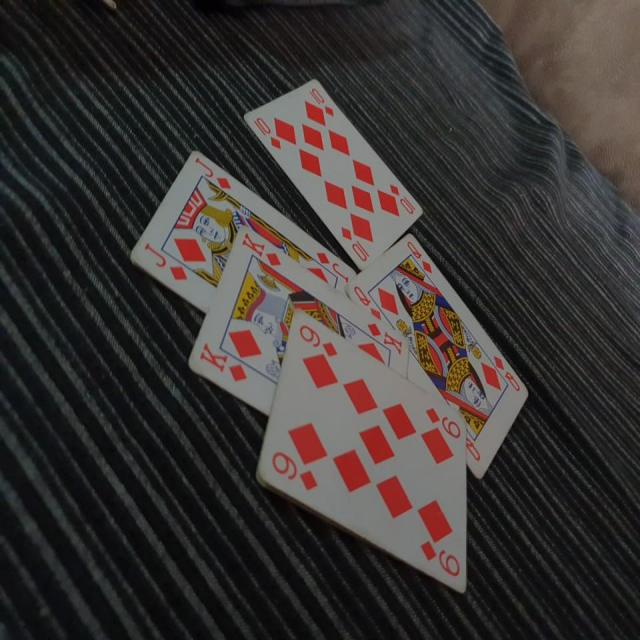10 Diamonds: (241, 74, 424, 268)
9 Diamonds: (256, 308, 468, 592)
J Diamonds: (129, 146, 358, 311)
K Diamonds: (186, 224, 411, 415)
Q Diamonds: (342, 229, 530, 482)
